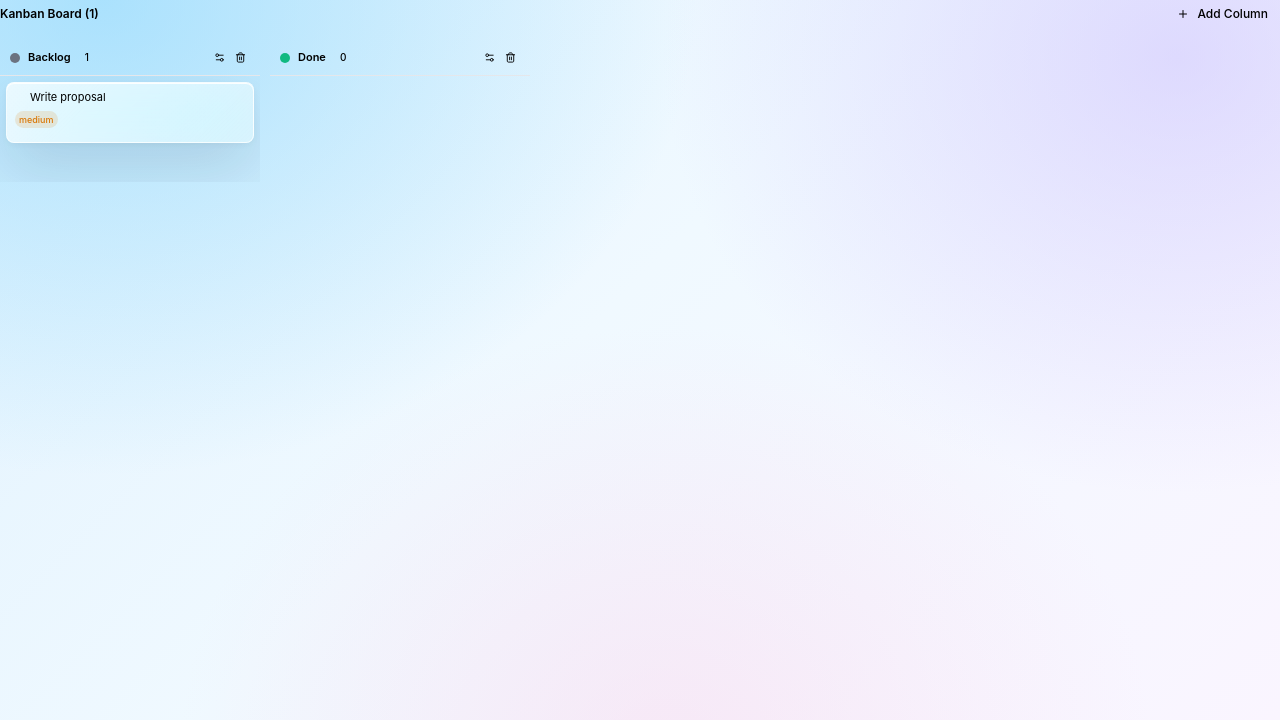
Test case: KanbanBoard › opens the edit dialog when a card is clicked
Click the text "Write proposal": (68, 97) [30, 90, 106, 104]
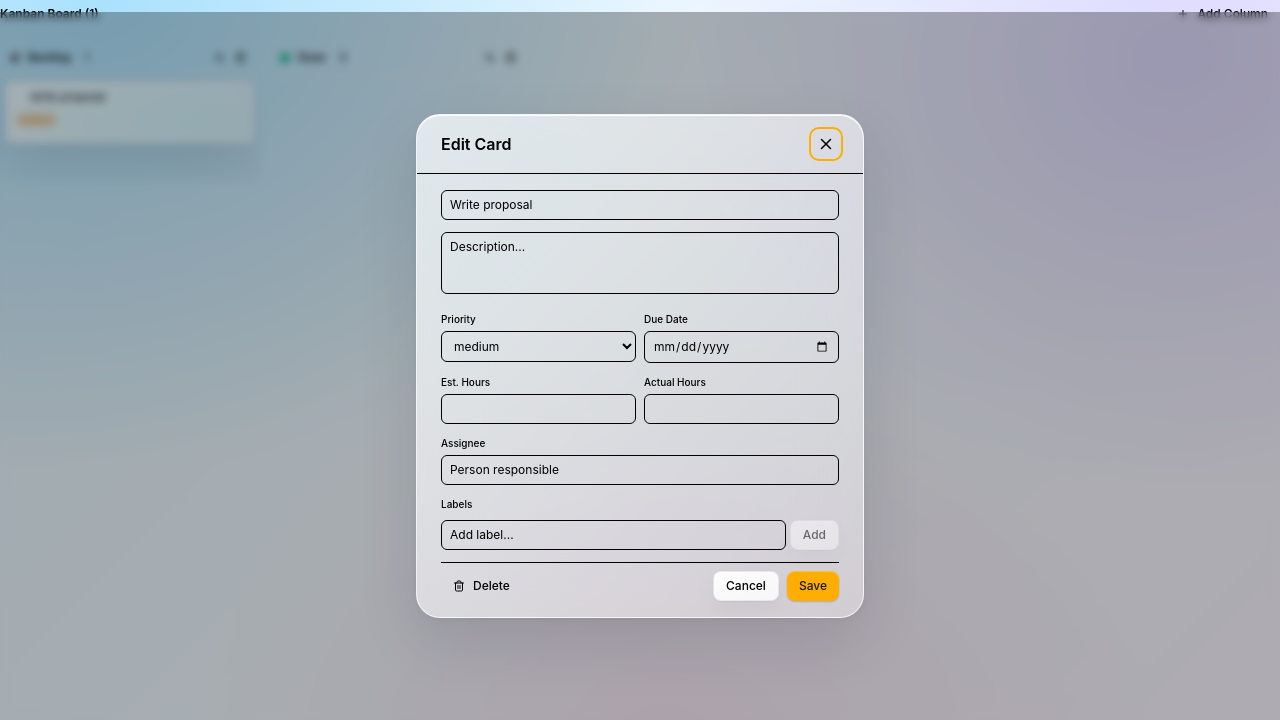
expect the dialog is shown: met, box [416, 114, 864, 618]
expect the field showing "Write proposal" is shown: met, box [441, 190, 839, 220]
